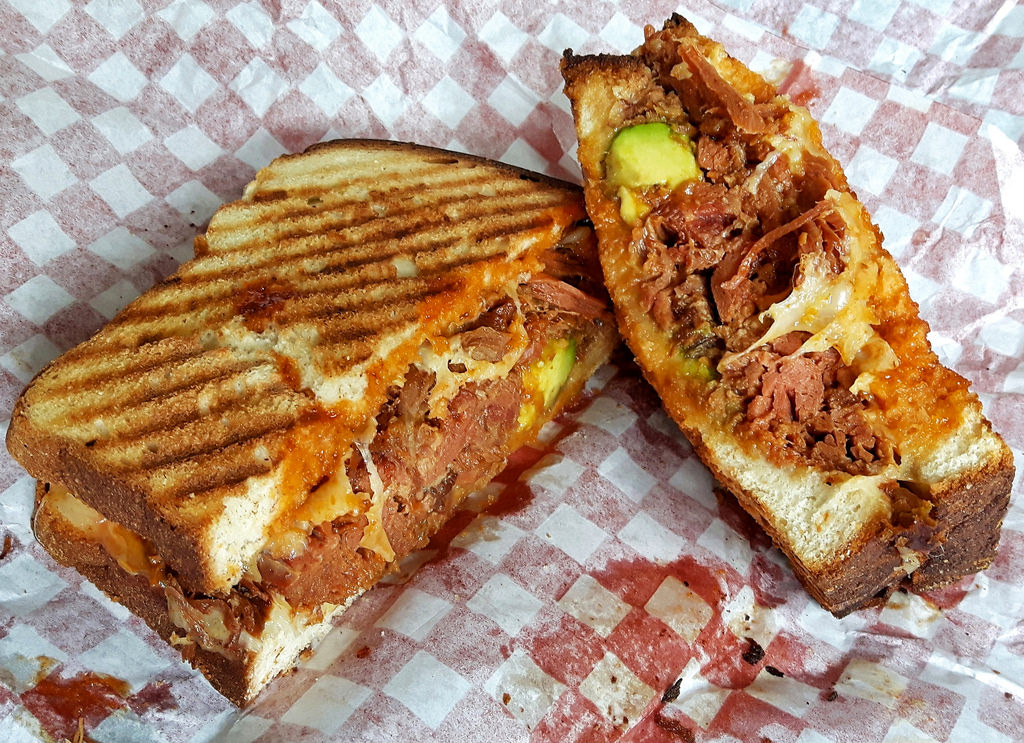slice of bread: (570, 53, 981, 584), (58, 207, 488, 645)
